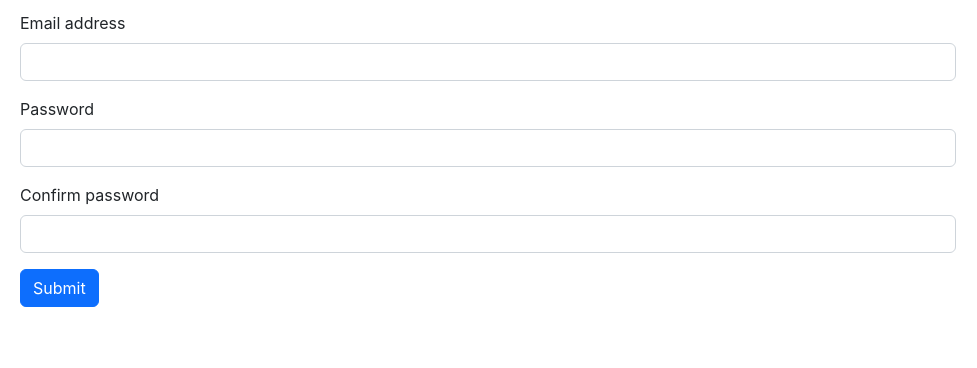
Form tests › Show error if input is incorrect › should show password error message on invalid password
The image size is (977, 368).
expect the text "the password you entered should contain 5 or more characters" is not shown: met
Type "selena@gmail.com" into the field labelled "Email address" at (488, 62), box [20, 43, 956, 81]
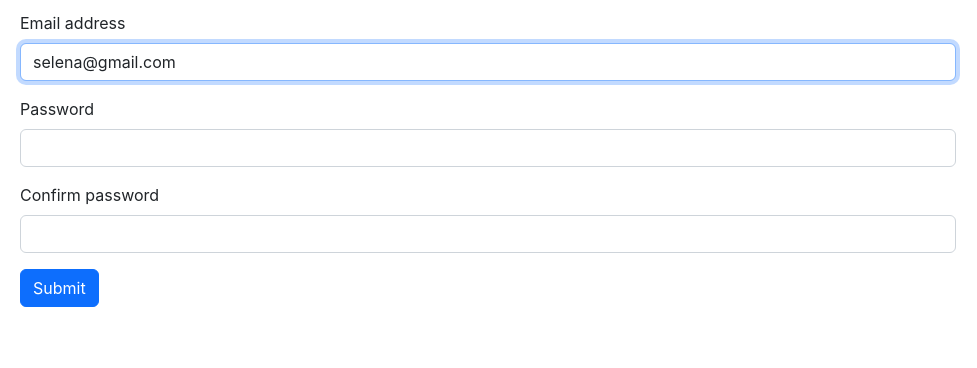
Type "pas" into the password field labelled "Password" at (488, 148), box [20, 129, 956, 167]
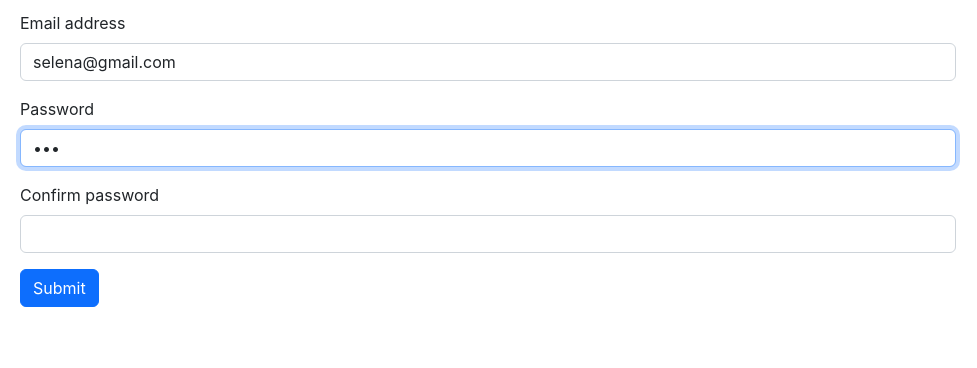
Click the button "Submit" at (59, 288), box [20, 269, 99, 307]
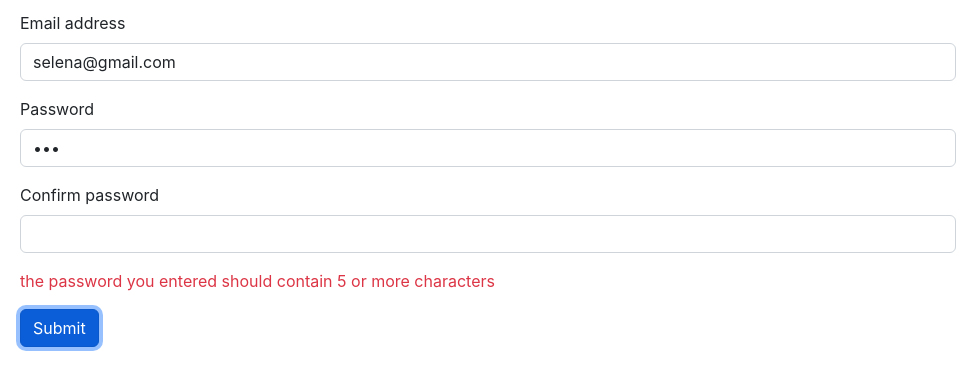
expect the text "the password you entered should contain 5 or more characters" is shown: met, box [20, 271, 495, 291]
